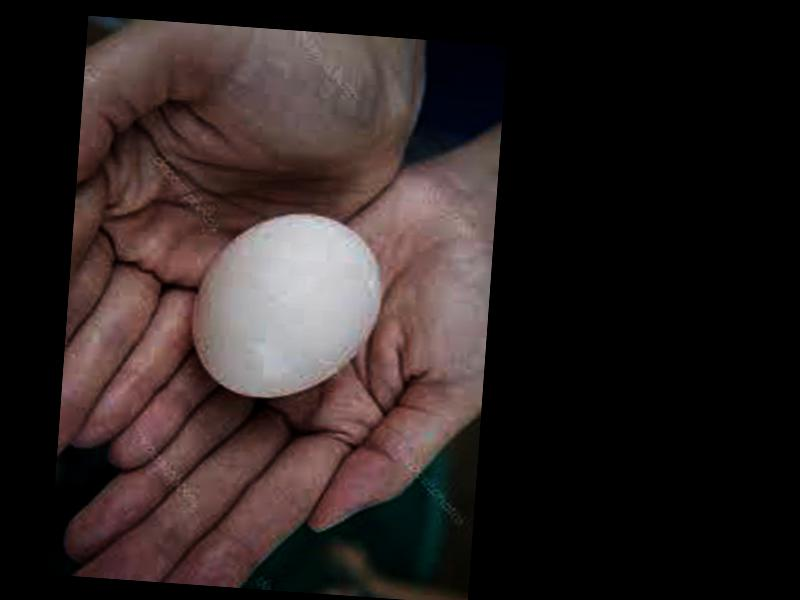Eggs: (192, 208, 381, 405)
